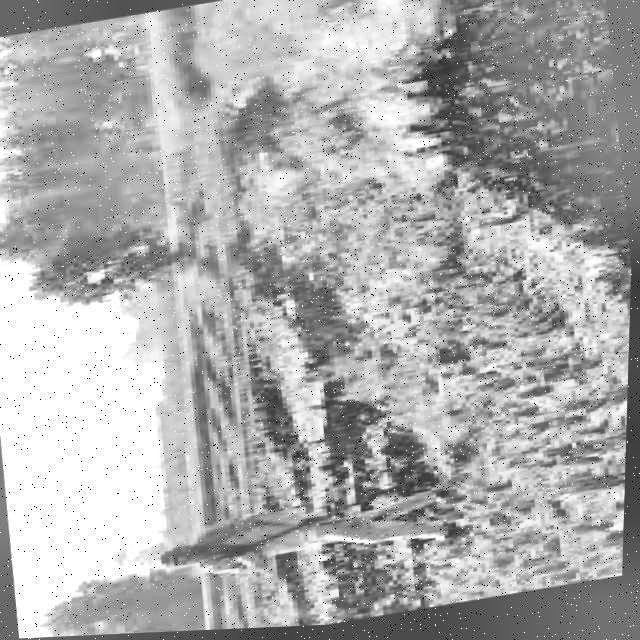Fire: (333, 346, 474, 498), (376, 235, 457, 287)
Smoke: (91, 0, 469, 257)
